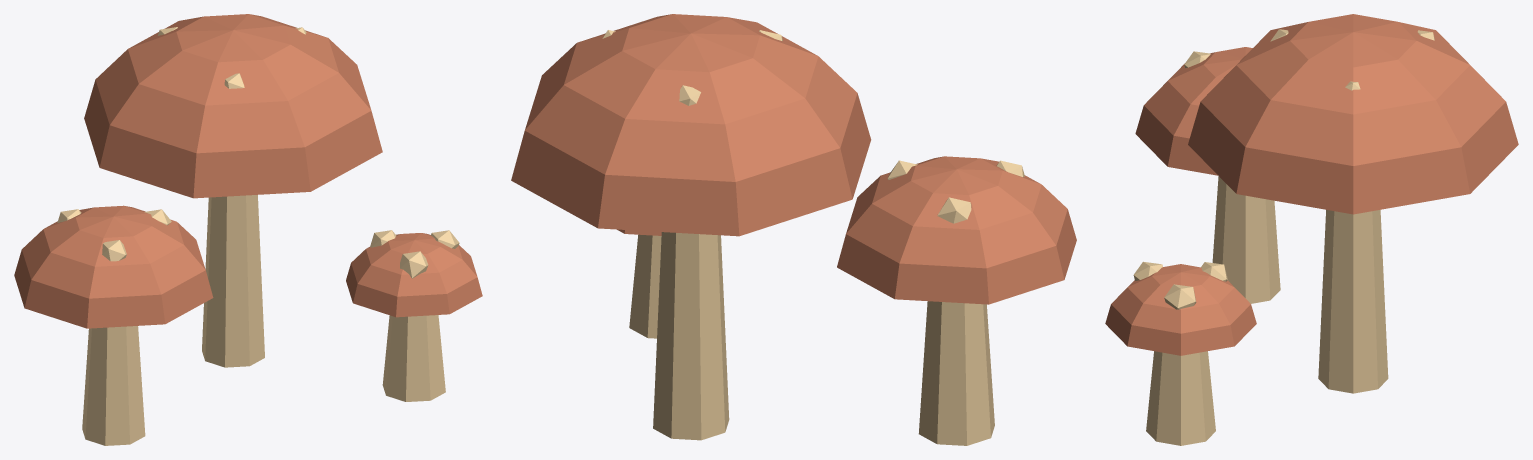
Rendered from houby.glb.
3 renders of one model, left to right at view 1: azimuth 30°, elevation 25°; view 2: azimuth 150°, elevation 25°; view 3: azimuth 270°, elevation 25°, orthographic. The views are drawn at different scales.
Parts seen in each view (by area): view 1: material_d18464, material_f2d5a5; view 2: material_d18464, material_f2d5a5; view 3: material_d18464, material_f2d5a5.
Boxes of the visible parts, box(x1,y1,x2,y2) form: material_d18464: box(14, 14, 482, 328); material_f2d5a5: box(57, 27, 459, 445); material_d18464: box(511, 14, 1076, 304); material_f2d5a5: box(602, 30, 1024, 445); material_d18464: box(1105, 14, 1518, 355); material_f2d5a5: box(1133, 29, 1434, 445).
Size of the model in its own units: 0.9656 by 0.7104 by 0.768.
